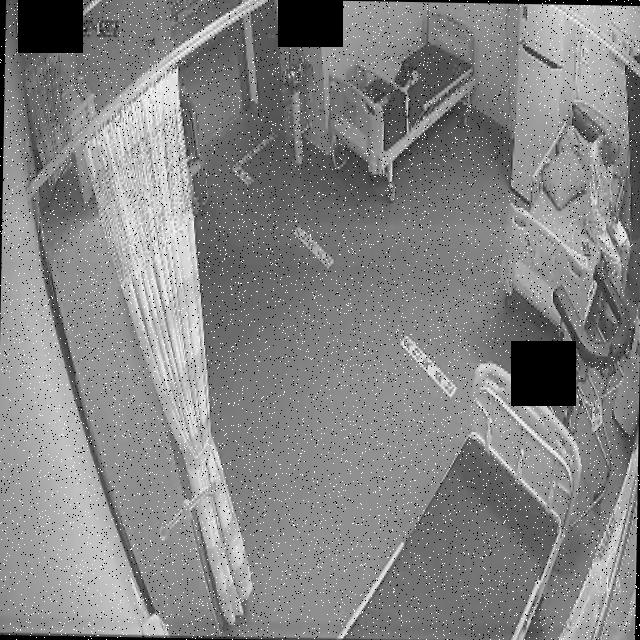bed: (337, 359, 583, 640), (497, 98, 630, 330), (326, 6, 478, 178)
patient: (581, 120, 631, 292)
sit: (582, 121, 630, 297)
